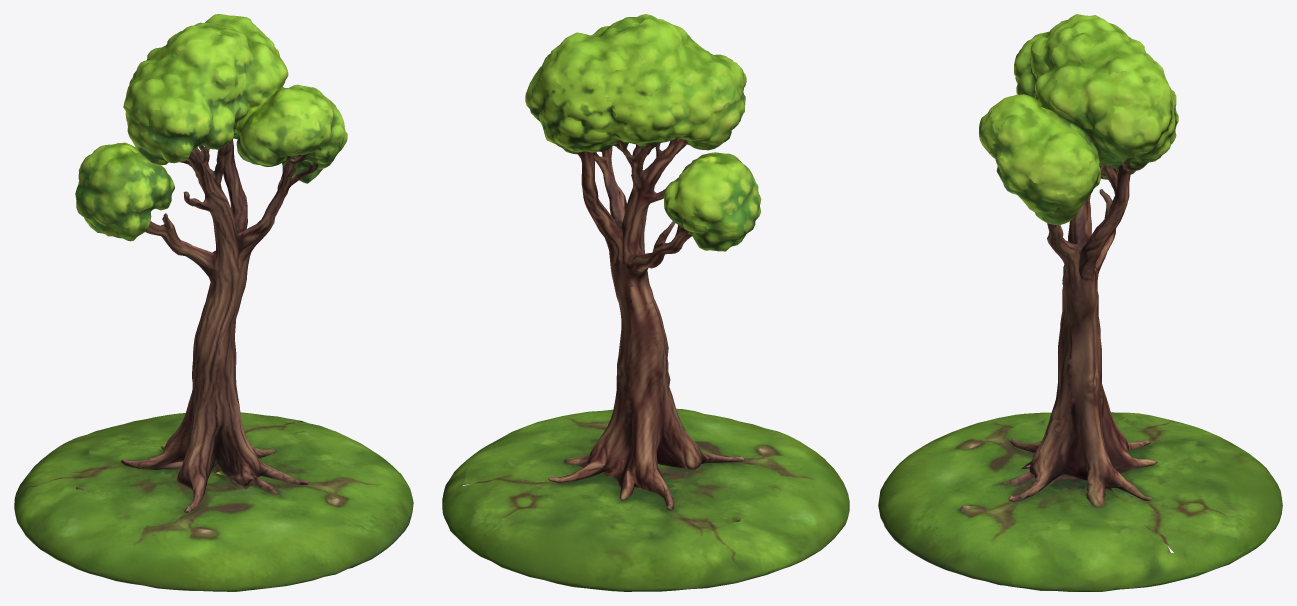
Rendered from veg_tree_oak_a.glb.
3 renders of one model, left to right at view 1: azimuth 30°, elevation 25°; view 2: azimuth 150°, elevation 25°; view 3: azimuth 270°, elevation 25°, orthographic. The views are drawn at different scales.
Visible parts, largest first — view 1: hollow_normalise; view 2: hollow_normalise; view 3: hollow_normalise.
Boxes of the visible parts, x1,y1,x2,y2 form: hollow_normalise: (14, 14, 413, 591); hollow_normalise: (442, 14, 849, 591); hollow_normalise: (878, 14, 1282, 591).
Size of the model in its own units: 3.03 by 4 by 3.03.
Materials: 1 (1 with a texture image).
